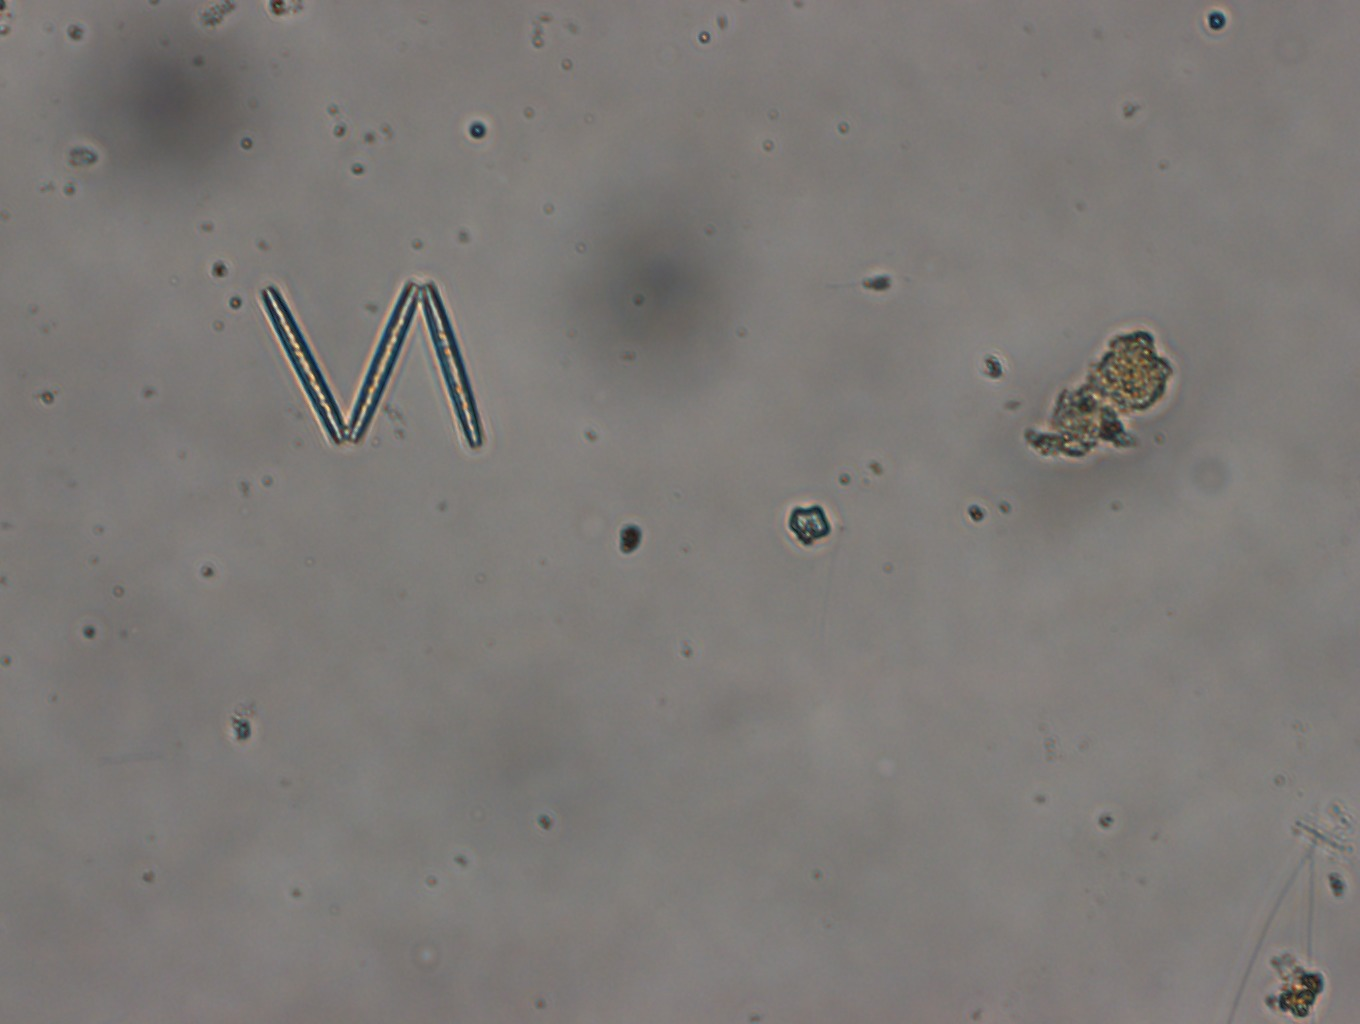guinardia flaccida: (260, 274, 484, 451)
